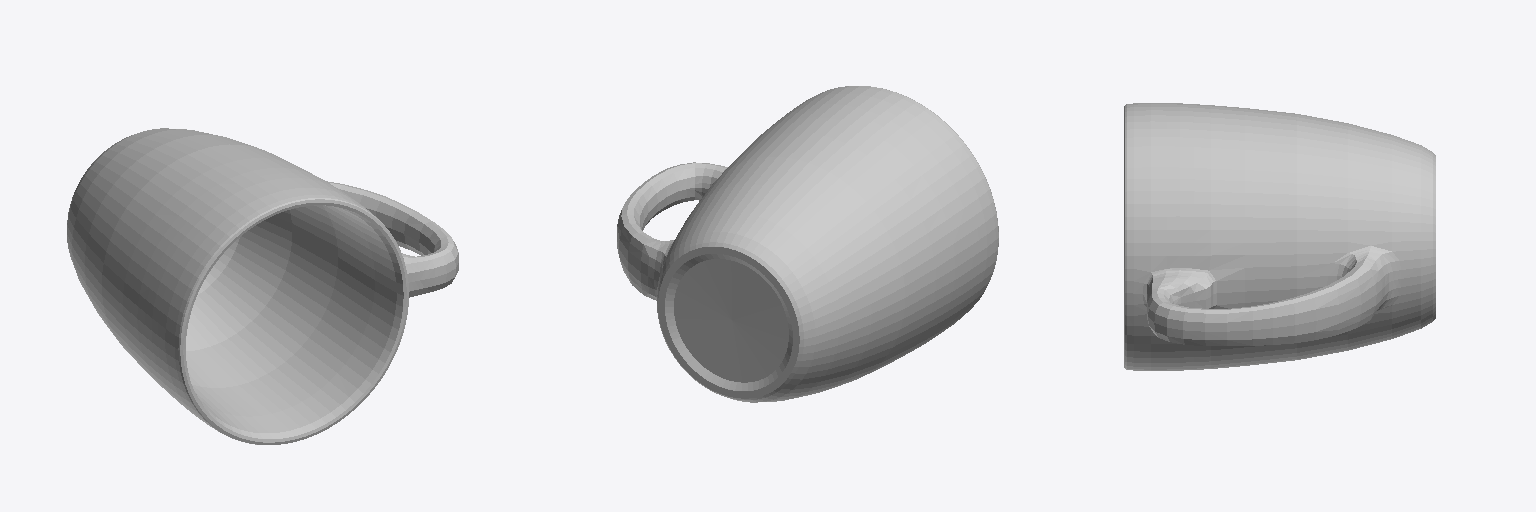
The model's file is corelle_livingware_11oz_mug_red.obj.
3 views of the same model, side by side, from view 1: azimuth 30°, elevation 25°; view 2: azimuth 150°, elevation 25°; view 3: azimuth 270°, elevation 25° (orthographic).
Bounding box in the file's own units: 0.1143 × 0.0857 × 0.0995.